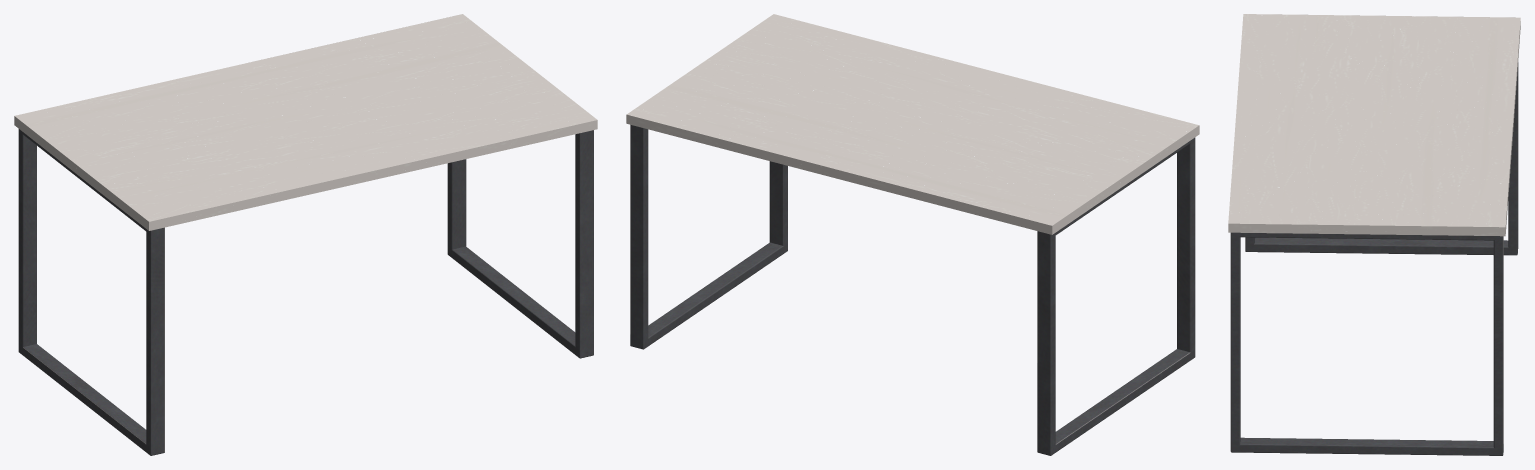
The model's file is table.gltf.
The picture shows the model from 3 angles, left to right: view 1: azimuth 30°, elevation 25°; view 2: azimuth 150°, elevation 25°; view 3: azimuth 270°, elevation 25°; orthographic projection. The views are drawn at different scales.
Visible parts, largest first — view 1: Office Desk.005; view 2: Office Desk.005; view 3: Office Desk.005.
Part boxes in pixels (<box>): Office Desk.005: <box>14,14,597,455</box>; Office Desk.005: <box>626,14,1199,455</box>; Office Desk.005: <box>1228,14,1520,455</box>.
Bounding box in the file's own units: 1.65 × 0.8287 × 0.9545.
1 material, 1 textured.
